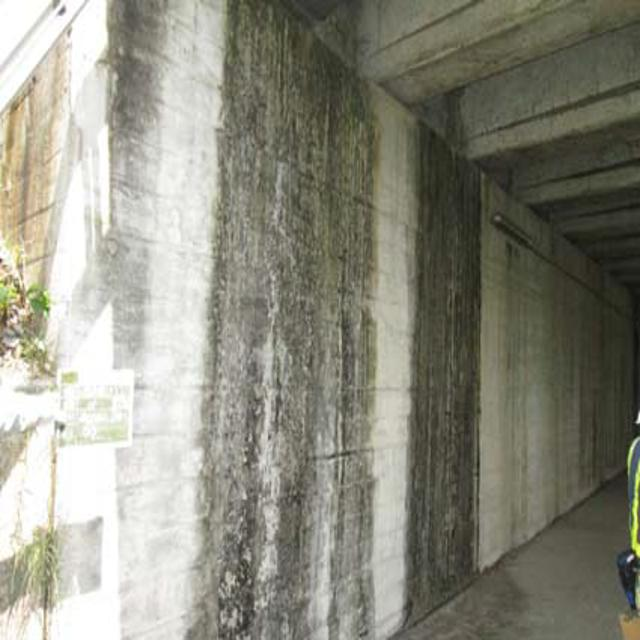leakage: (216, 2, 380, 634), (416, 101, 501, 614)
